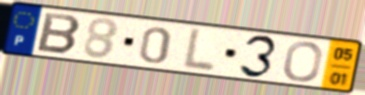0: (136, 25, 176, 65)
3: (235, 34, 281, 80)
8: (81, 16, 122, 62)
B: (34, 10, 84, 56)
L: (179, 26, 219, 75)
O: (282, 40, 325, 84)
